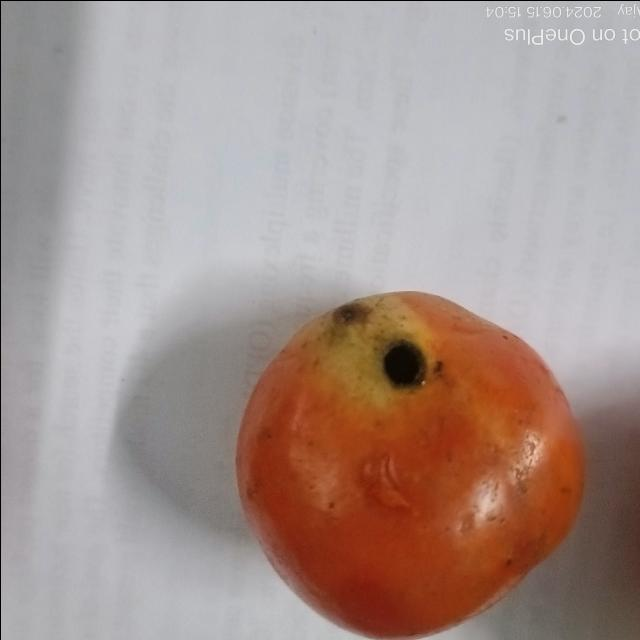fruitworm_bore: (373, 332, 437, 398)
